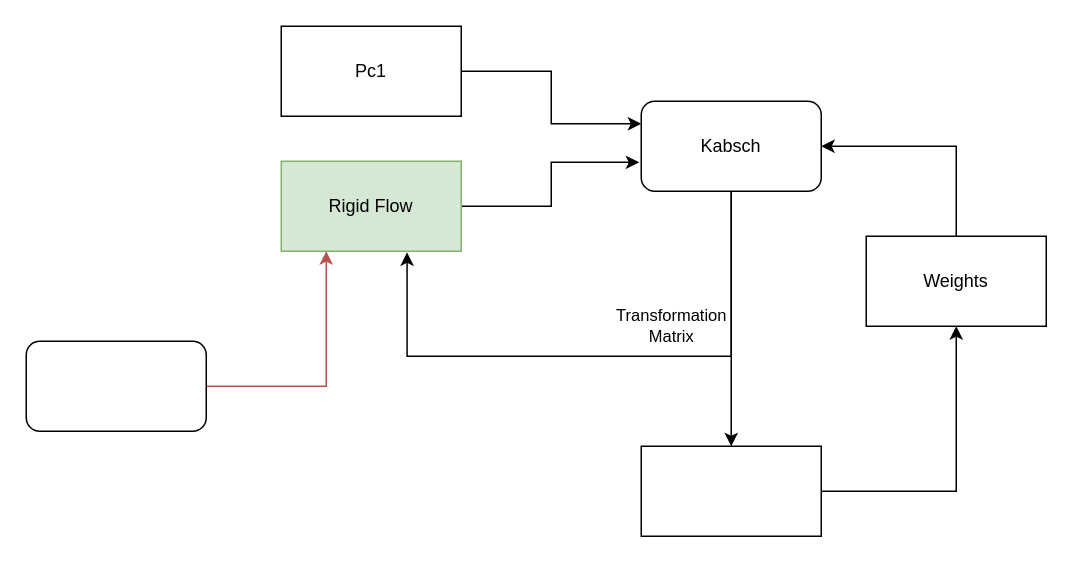
Some shapes in this 1073 by 563 pixel diagram are drawn without their labels. Here are the shapes that lost their labels. From the top down, the box of each, then its label:
(25, 340, 206, 431): NN & Smoothness
(640, 445, 821, 536): Visibility
